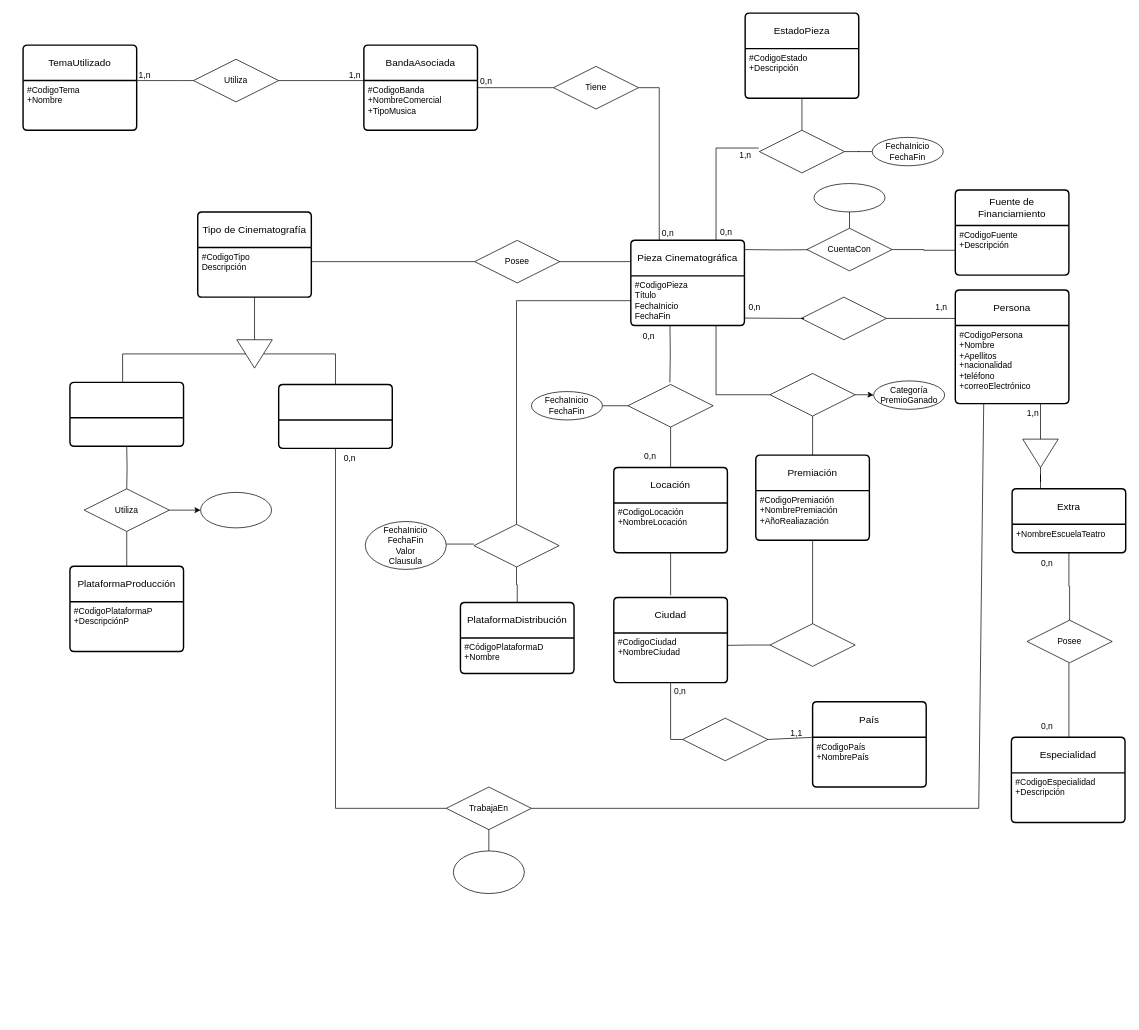
Image size: 1139x1030. Some labels were removed from this diagram. Each missing label, with the centre of its shape:
"+Cantidad de Meses +Costo" belongs at (236,510).
"Animada" belongs at (126,414).
"Asocian" belongs at (516,545).
"Dirige" belongs at (843,318).
"EstáUbicada" belongs at (725,739).
"FechaInicio FechaFin Monto" belongs at (488,872).
"MontoObtenido" belongs at (849,197).
"NoAnimada" belongs at (335,416).
"ParticipanEn" belongs at (812,394).
"SeEncuentraEn" belongs at (802,151).
"SeLlevaAcabo" belongs at (812,644).
"SeRodaEn" belongs at (670,405).
